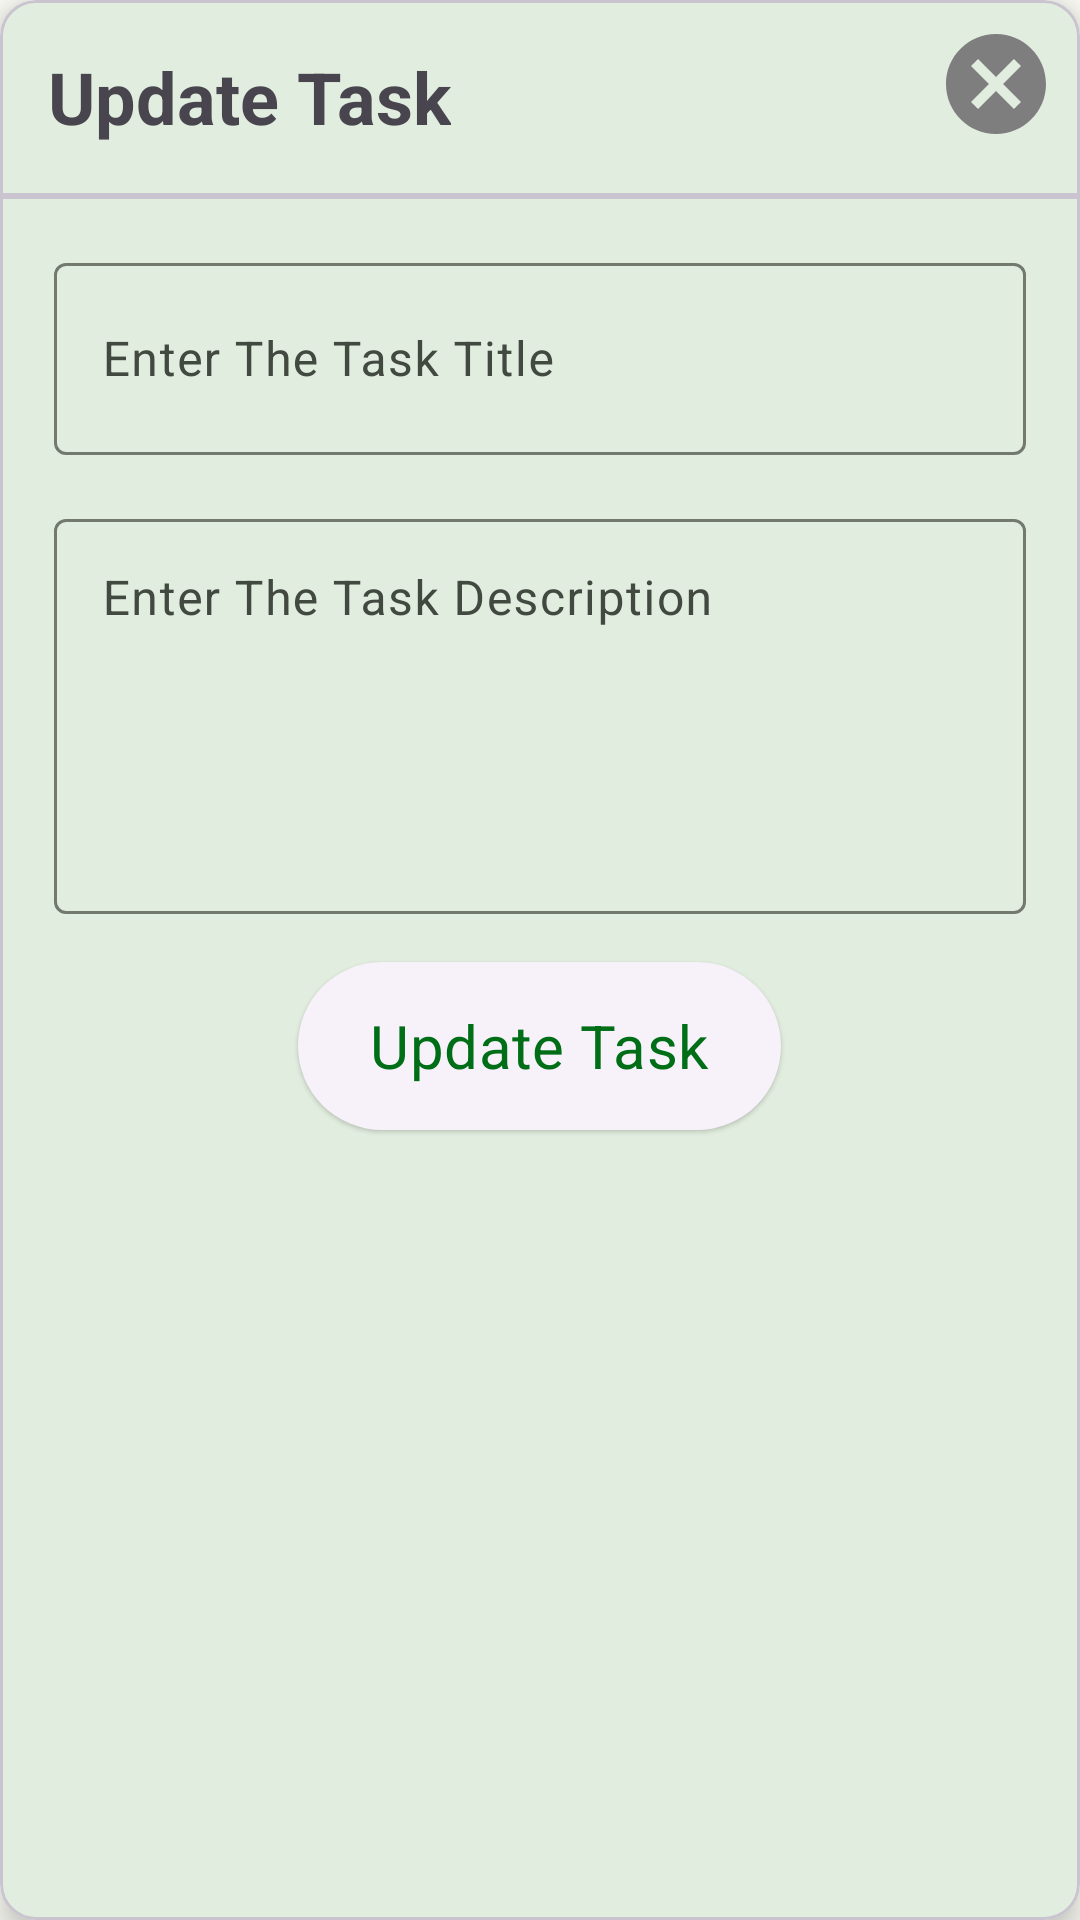

Named icons in this screenshot (1080px×1920px) and their centers, (x,y):
close: (996,84)
